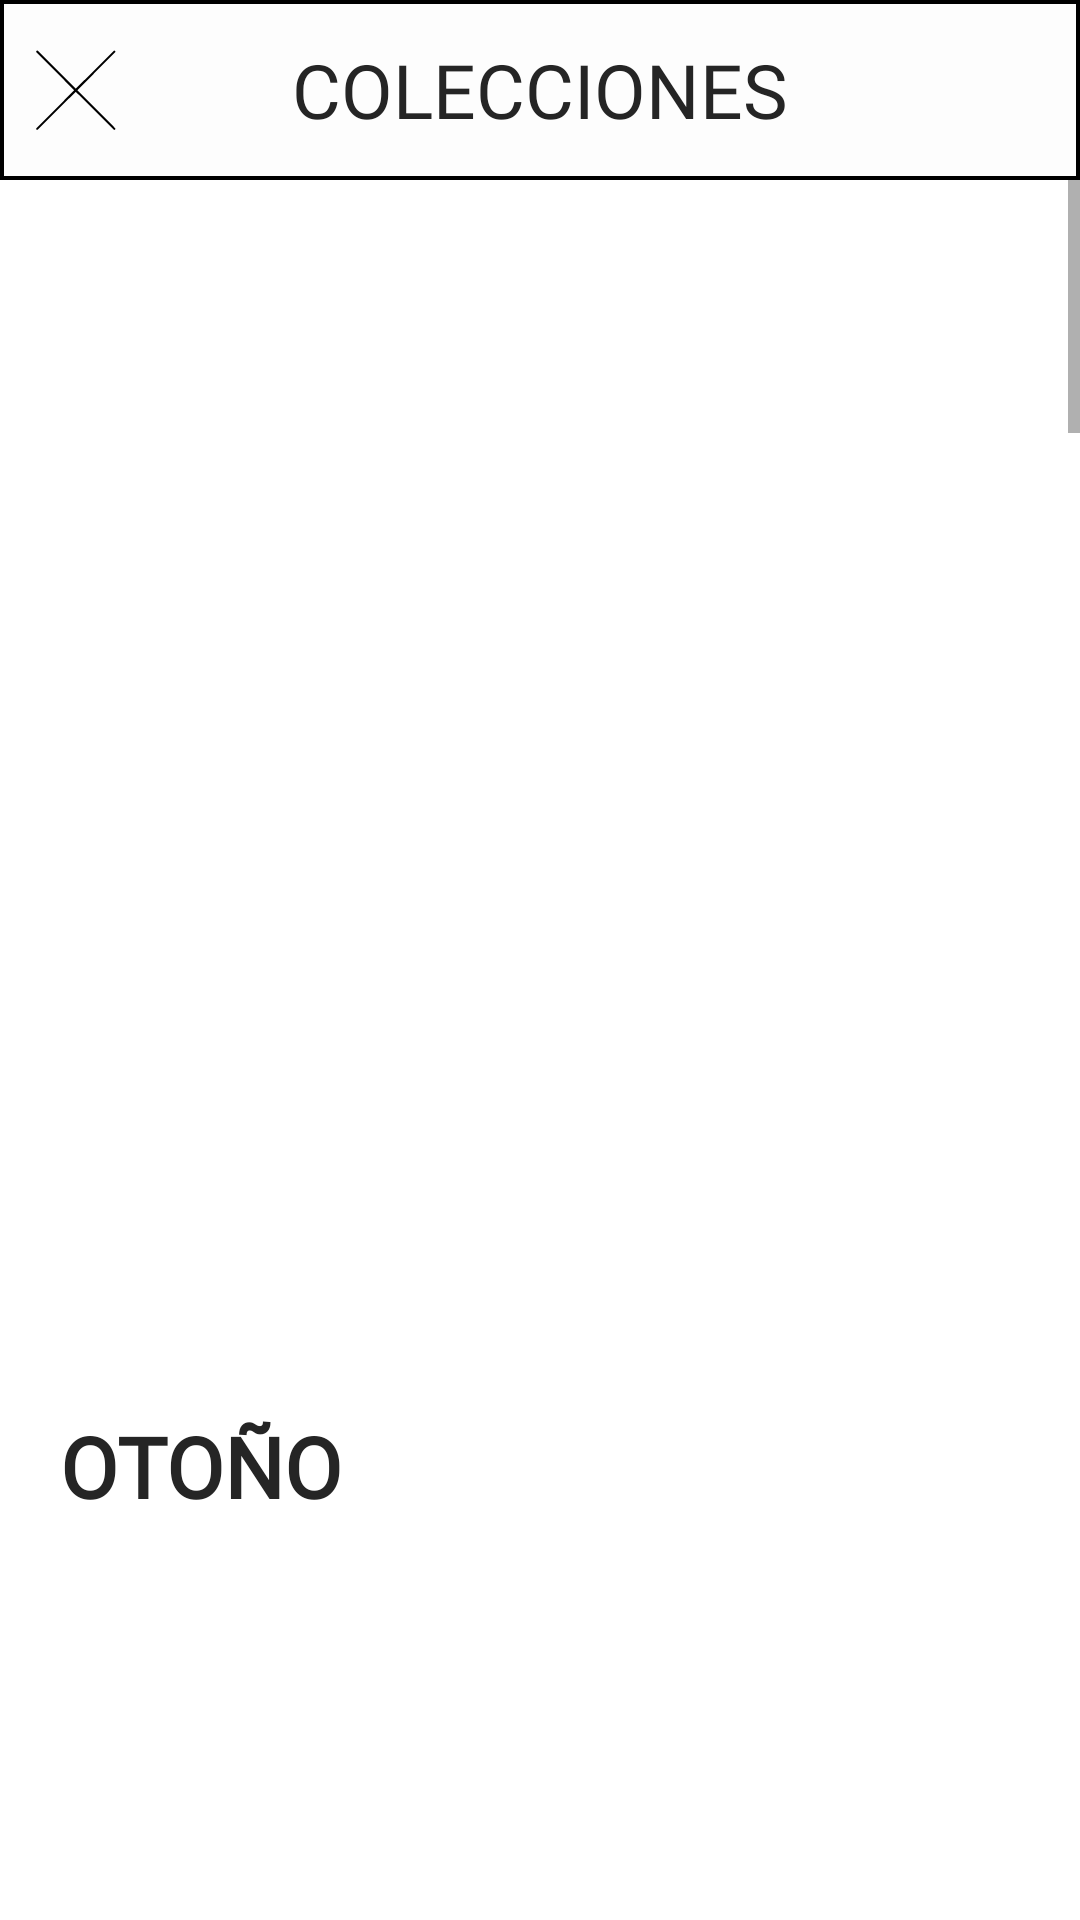

Icon bounding boxes for this 1080 × 1920 phone screenshot, format (x1,y1,x2,y2):
cruz: (0,0,150,180)
